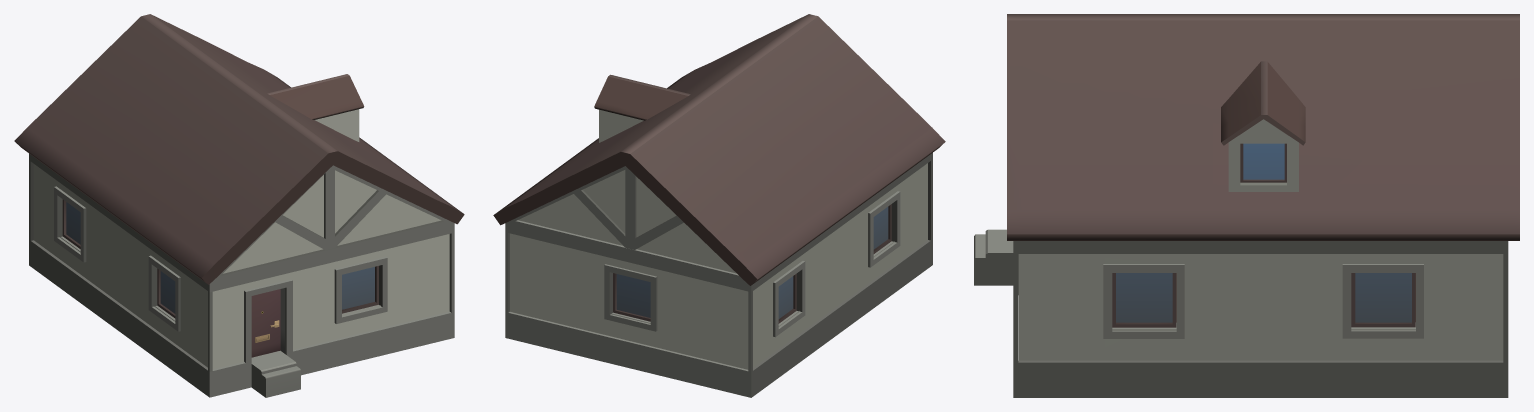
Rendered from Residential_FamilyHome_alt01.glb.
3 renders of one model, left to right at view 1: azimuth 30°, elevation 25°; view 2: azimuth 150°, elevation 25°; view 3: azimuth 270°, elevation 25°, orthographic. The views are drawn at different scales.
Visible parts, largest first — view 1: base.113, windowRefl.084; view 2: base.113, windowRefl.084; view 3: base.113, windowRefl.084.
Part boxes in pixels (left/top/right/bottom): base.113: left=14, top=14, right=464, bottom=397; windowRefl.084: left=66, top=202, right=374, bottom=313; base.113: left=493, top=14, right=945, bottom=397; windowRefl.084: left=616, top=207, right=888, bottom=318; base.113: left=974, top=14, right=1519, bottom=397; windowRefl.084: left=1116, top=143, right=1411, bottom=322.
Size of the model in its own units: 9.62 by 7.6 by 12.62.
